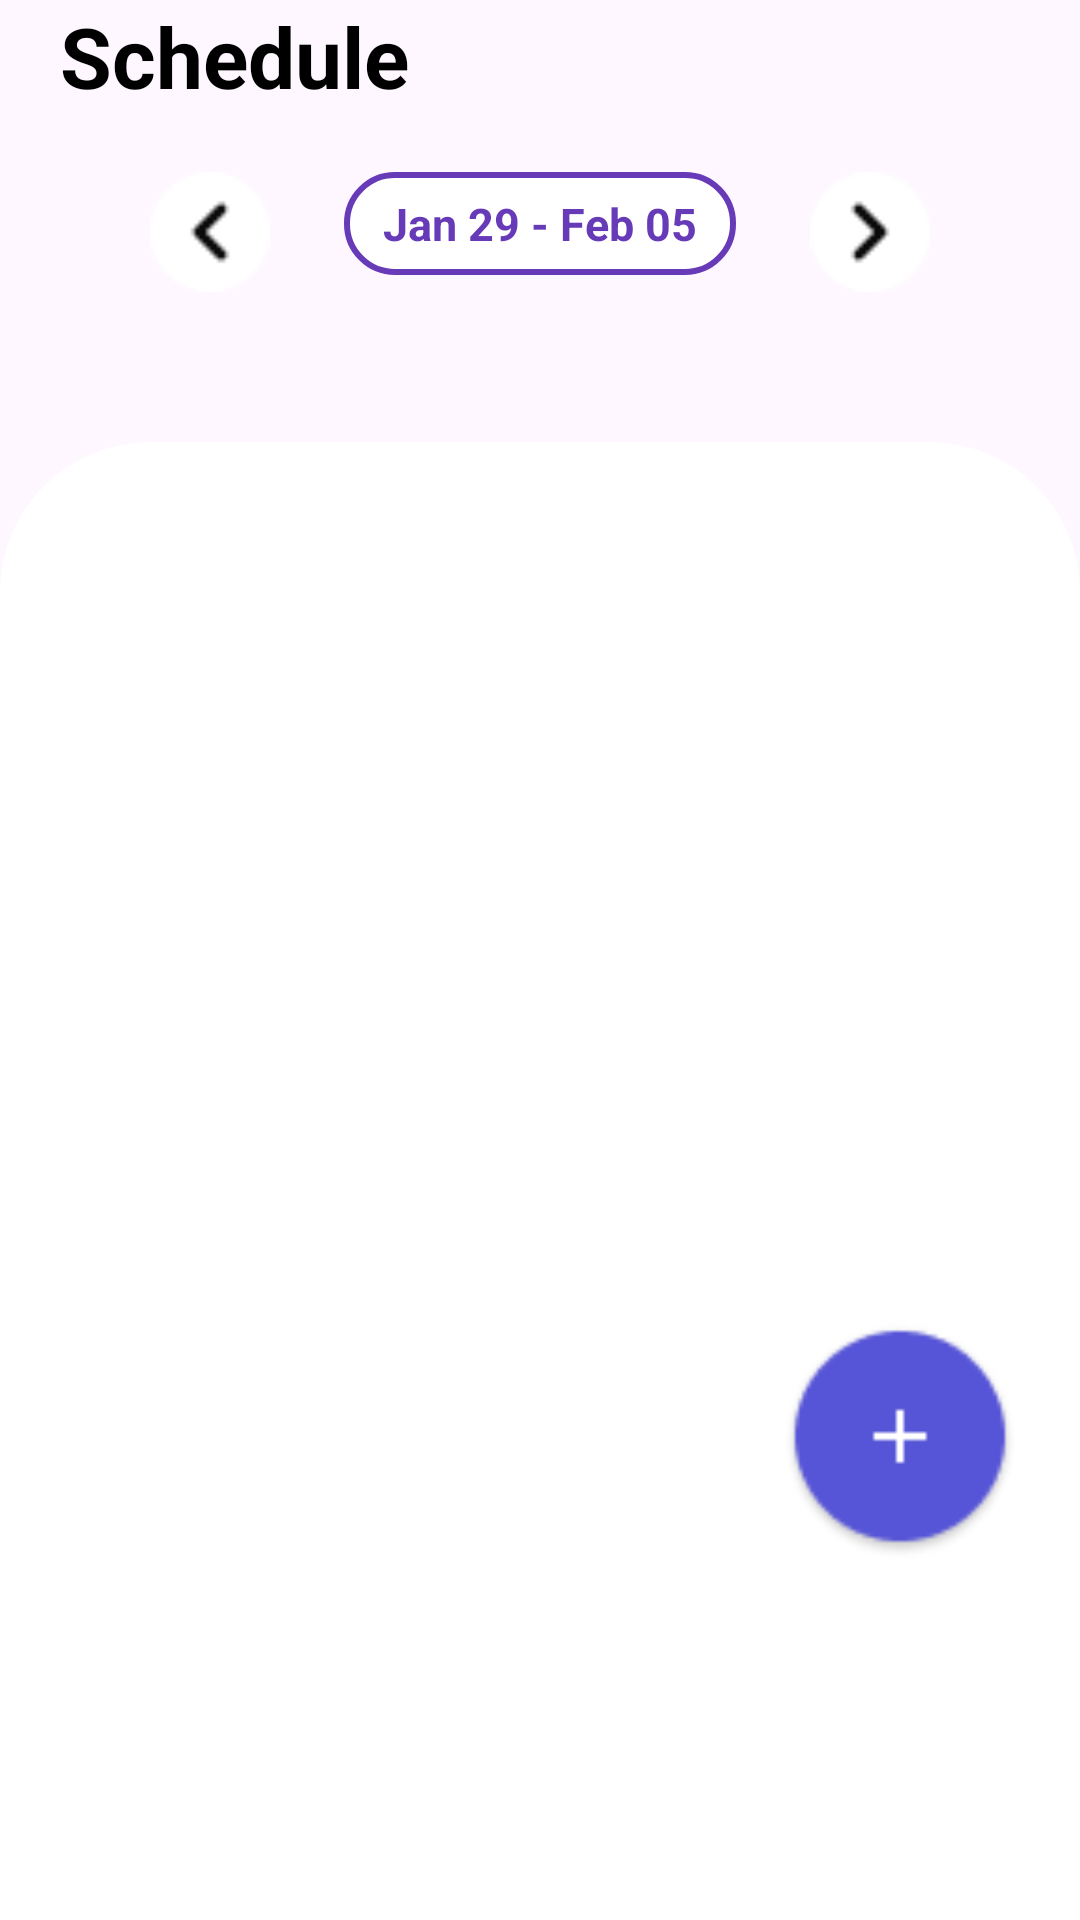

Locate icon controls on the screen. Image size 1080*1920, boxes as (x1, y1, x2, y2).
add journal: (793, 1330, 1007, 1548)
